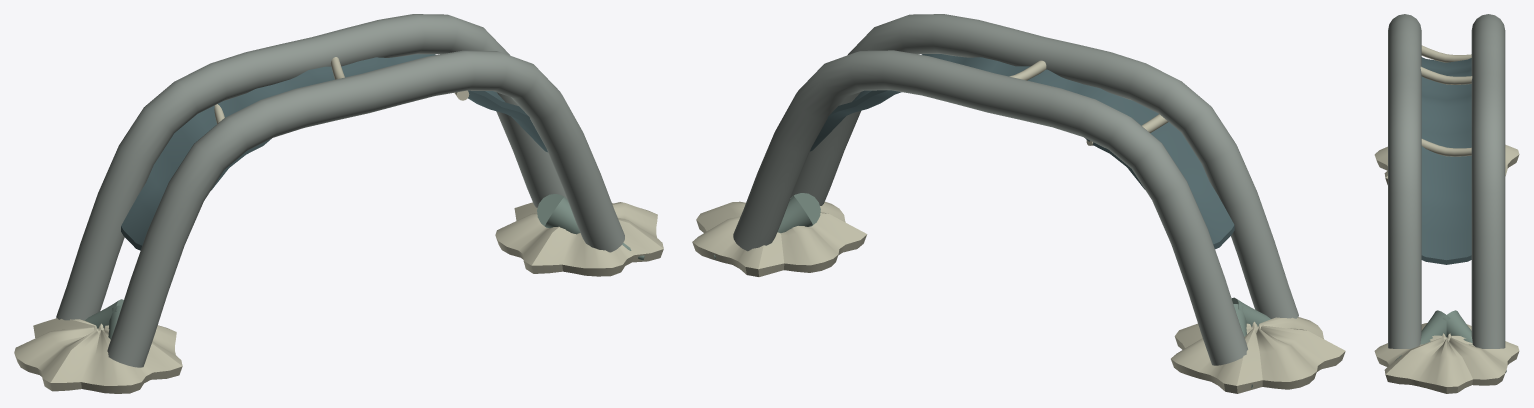
File: arched_tendril_bridge_lod0.glb
3 renders of one model, left to right at view 1: azimuth 30°, elevation 25°; view 2: azimuth 150°, elevation 25°; view 3: azimuth 270°, elevation 25°, orthographic. The views are drawn at different scales.
Visible parts, largest first — view 1: LOD0_tissue, LOD0_calcite, LOD0_tissue_fold, LOD0_tissue_mature; view 2: LOD0_tissue, LOD0_calcite, LOD0_tissue_fold, LOD0_tissue_mature; view 3: LOD0_tissue, LOD0_tissue_fold, LOD0_calcite, LOD0_tissue_mature.
Part boxes in pixels (x1,y1,x2,y2): LOD0_tissue: (56, 14, 624, 367); LOD0_calcite: (14, 57, 663, 393); LOD0_tissue_fold: (121, 54, 547, 250); LOD0_tissue_mature: (85, 194, 644, 339); LOD0_tissue: (733, 14, 1298, 365); LOD0_calcite: (692, 60, 1345, 393); LOD0_tissue_fold: (810, 54, 1234, 249); LOD0_tissue_mature: (714, 193, 1270, 388); LOD0_tissue: (1388, 14, 1505, 348); LOD0_tissue_fold: (1421, 57, 1471, 264); LOD0_calcite: (1374, 45, 1519, 393); LOD0_tissue_mature: (1395, 310, 1506, 372).
Bounding box in the file's own units: 5.23 × 1.95 × 1.25.
